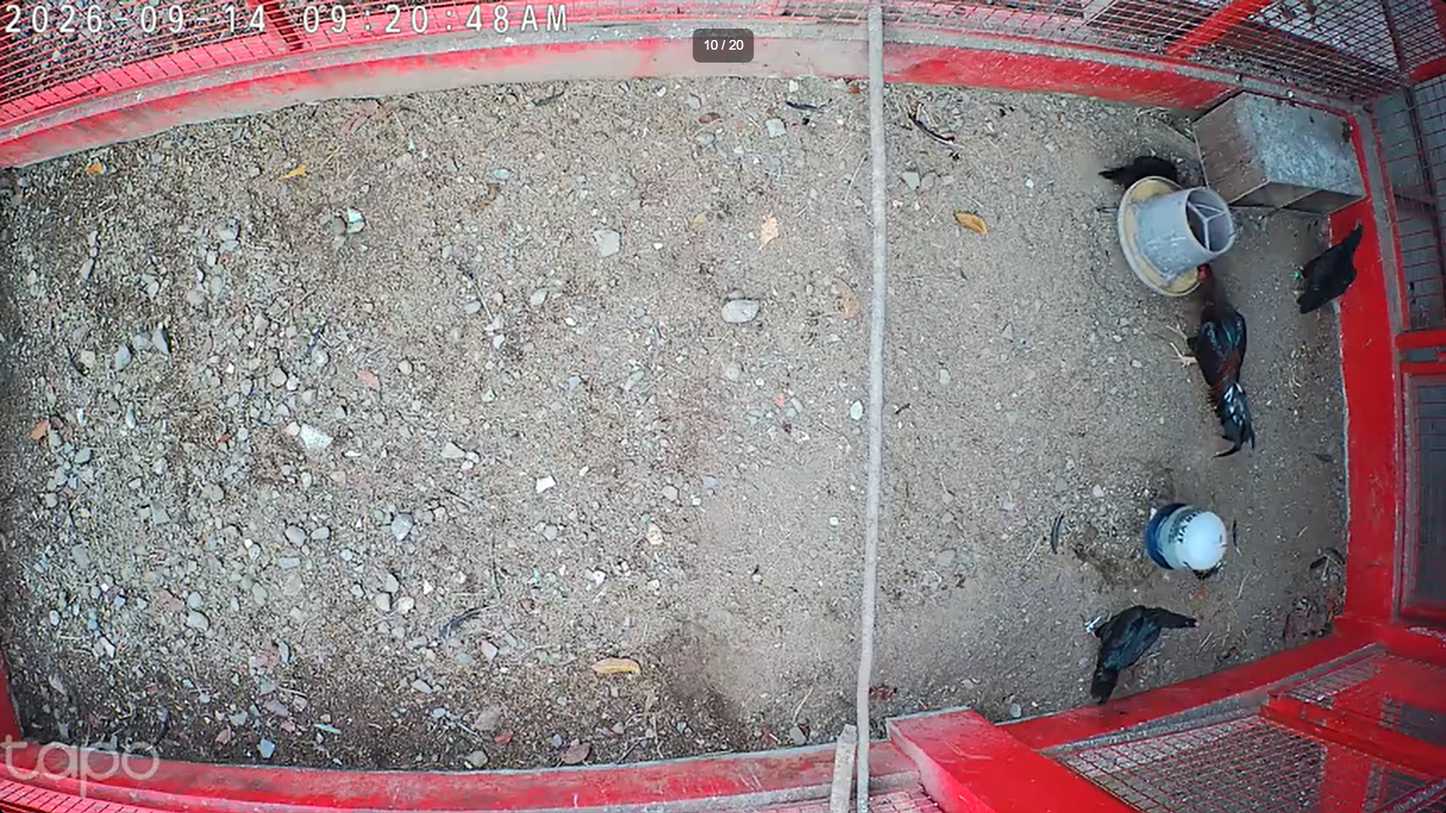Chicken: (1081, 600, 1203, 702), (1288, 214, 1366, 318), (1097, 156, 1182, 191)
Rooster: (1164, 255, 1257, 466)
